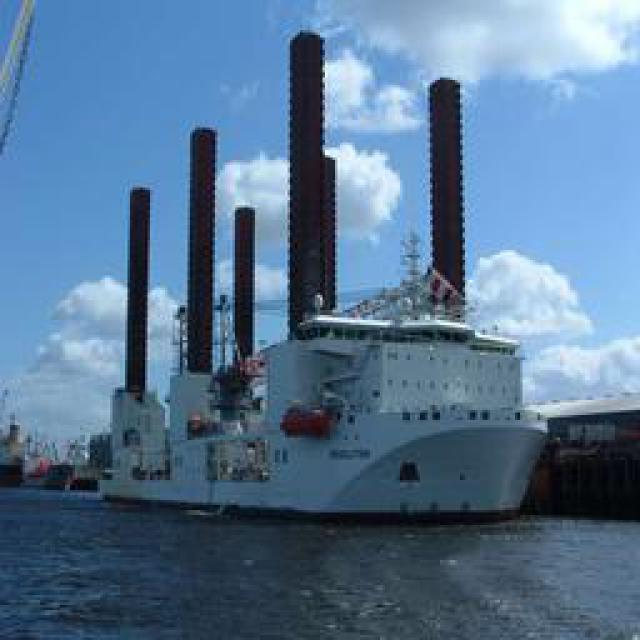Ship: (105, 253, 540, 521)
